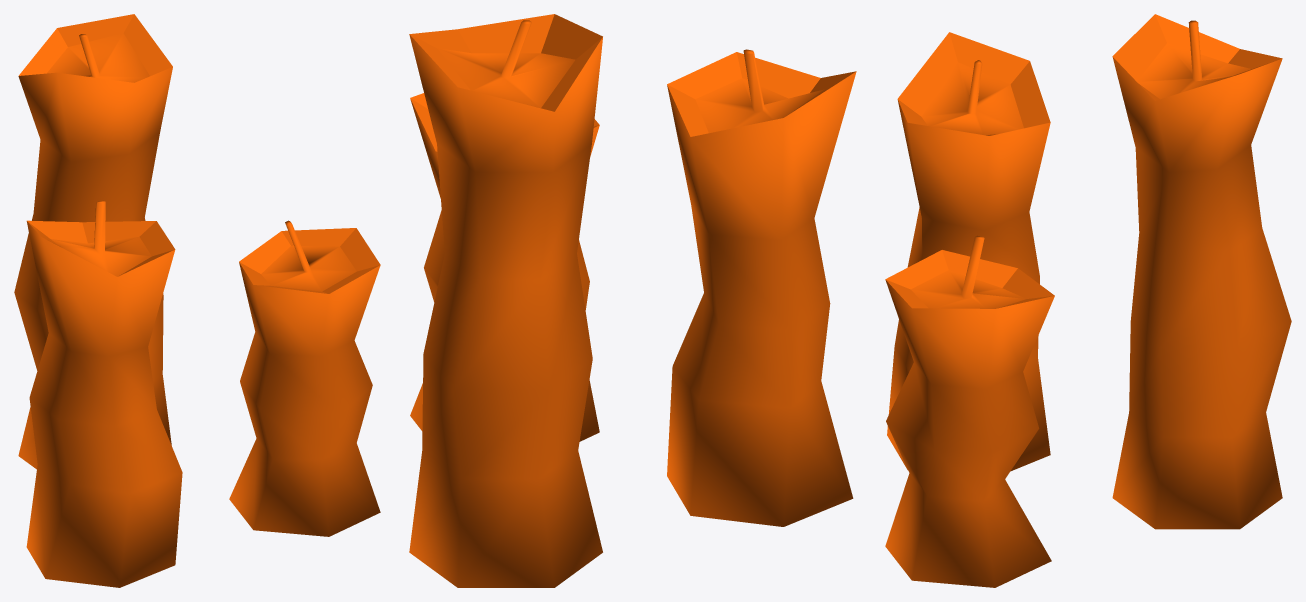
File: Candles1_v1.fbx
3 renders of one model, left to right at view 1: azimuth 30°, elevation 25°; view 2: azimuth 150°, elevation 25°; view 3: azimuth 270°, elevation 25°, orthographic. The views are drawn at different scales.
Parts seen in each view (by area): view 1: candles; view 2: candles; view 3: candles.
Part boxes in pixels (x1,y1,x2,y2): candles: (14,14,380,587); candles: (409,14,856,587); candles: (885,14,1291,587).
Bounding box in the file's own units: 112 × 135 × 106.
